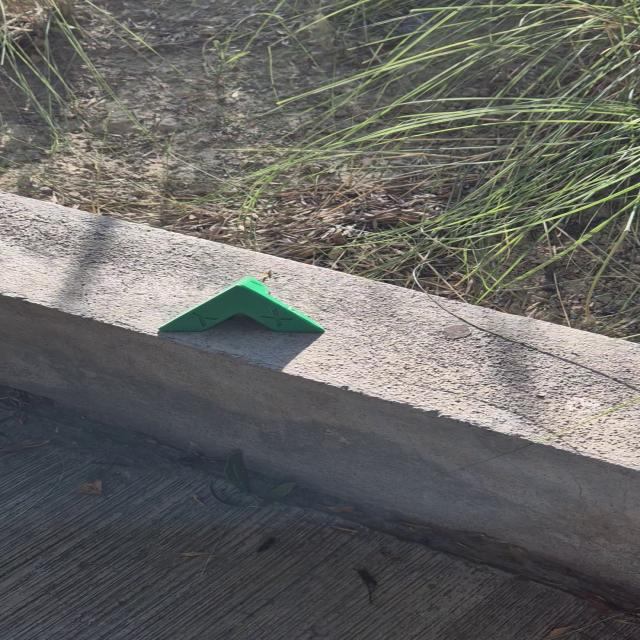objects: (157, 274, 326, 334)
